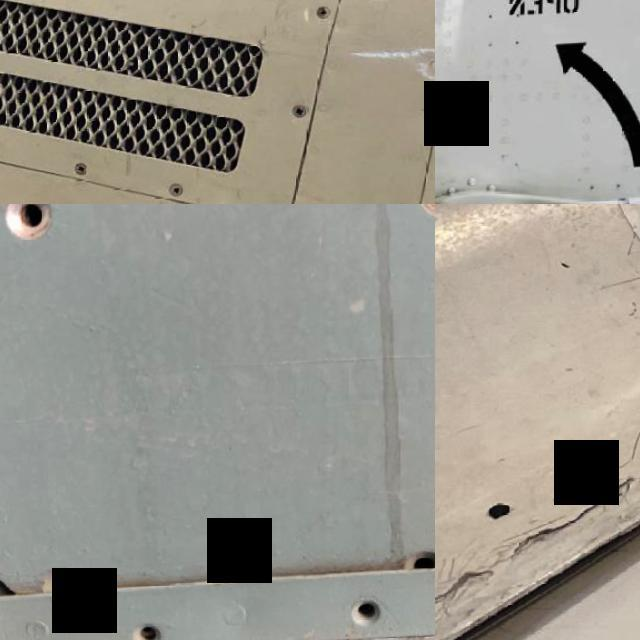Missing_Fastener: (5, 532, 114, 634), (325, 574, 411, 640), (0, 204, 84, 271), (382, 518, 435, 618), (95, 591, 198, 640)
